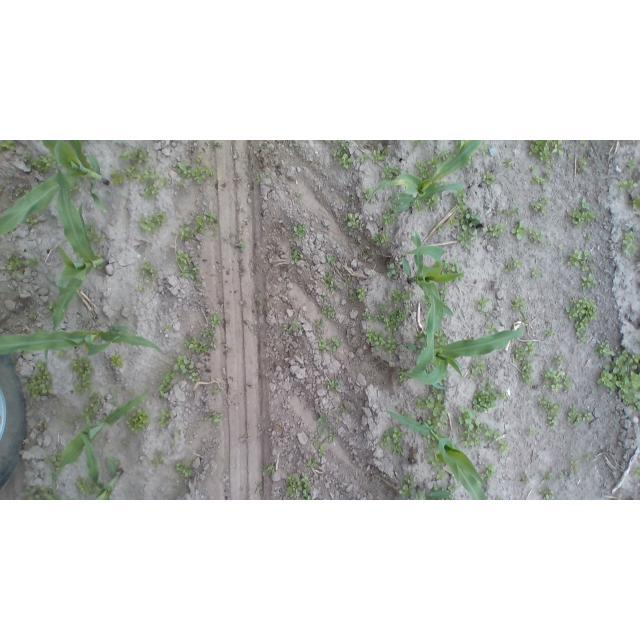Maize: (45, 143, 112, 359), (399, 289, 527, 390), (1, 140, 110, 236), (383, 408, 490, 500), (58, 389, 148, 491), (363, 140, 484, 212), (0, 328, 164, 369), (403, 232, 465, 319), (83, 433, 124, 500), (415, 486, 452, 500)
Weeds: (593, 351, 639, 412), (456, 406, 505, 448), (450, 190, 483, 250), (159, 354, 201, 400), (566, 296, 598, 345), (126, 164, 170, 199), (185, 310, 221, 352), (25, 360, 56, 401), (178, 210, 217, 242), (470, 380, 506, 413), (361, 308, 410, 332), (514, 341, 538, 387), (528, 141, 564, 168), (71, 356, 94, 397), (414, 388, 447, 416), (176, 160, 212, 185), (541, 367, 572, 396), (567, 196, 595, 227), (537, 395, 562, 428), (364, 329, 398, 353), (22, 150, 56, 174), (381, 425, 406, 457), (136, 211, 169, 235), (287, 472, 314, 500), (566, 404, 594, 429), (177, 250, 200, 279), (128, 407, 151, 436), (43, 445, 62, 480), (7, 255, 40, 275), (81, 392, 100, 424), (20, 486, 60, 500), (568, 250, 593, 271), (393, 286, 420, 303), (528, 195, 550, 215), (122, 146, 147, 163), (469, 360, 490, 380), (399, 477, 417, 500), (344, 211, 365, 230), (426, 414, 448, 432), (315, 411, 330, 437), (77, 475, 96, 495), (623, 232, 638, 257), (84, 224, 102, 243), (348, 287, 367, 305), (486, 223, 506, 240), (380, 165, 402, 180), (321, 274, 338, 293), (481, 170, 498, 189), (504, 256, 523, 273), (174, 461, 194, 477), (151, 450, 167, 470), (157, 409, 173, 428), (416, 161, 432, 180), (582, 273, 599, 290), (597, 341, 613, 359), (370, 148, 388, 164), (476, 295, 492, 313), (141, 261, 156, 279), (311, 438, 325, 457), (321, 305, 338, 320), (339, 154, 354, 171), (203, 412, 222, 425), (331, 335, 344, 354), (501, 207, 520, 220), (111, 353, 126, 369), (292, 222, 308, 237), (373, 231, 389, 246), (617, 180, 637, 192), (537, 486, 555, 499), (112, 167, 125, 185), (512, 221, 525, 239), (444, 260, 461, 273), (290, 250, 304, 265), (285, 321, 300, 335), (426, 197, 440, 212), (528, 228, 542, 243), (0, 139, 16, 152), (385, 262, 398, 278), (482, 462, 495, 478), (372, 300, 390, 311), (326, 378, 342, 390), (14, 183, 30, 195), (629, 193, 640, 210), (314, 319, 328, 332), (509, 297, 523, 310), (551, 355, 567, 366), (576, 157, 586, 174), (262, 464, 275, 477), (383, 213, 397, 225), (441, 150, 456, 160), (336, 406, 345, 422), (319, 339, 330, 352), (436, 330, 447, 343), (361, 188, 372, 201), (531, 176, 545, 186), (632, 466, 640, 483), (327, 427, 336, 442), (485, 321, 496, 333), (531, 266, 541, 279), (435, 470, 446, 481), (447, 484, 459, 494), (55, 349, 68, 358), (235, 240, 245, 251), (521, 472, 532, 482), (439, 284, 449, 295), (414, 201, 424, 212), (416, 331, 425, 343), (498, 441, 506, 454), (294, 189, 304, 199), (325, 253, 335, 263), (569, 461, 579, 471), (429, 157, 439, 167), (308, 457, 318, 467), (504, 157, 514, 167), (544, 473, 555, 482), (331, 150, 342, 159), (529, 425, 538, 436), (480, 145, 489, 156), (626, 159, 637, 168), (411, 141, 425, 148), (26, 217, 39, 224), (255, 171, 264, 181), (401, 411, 411, 420), (426, 455, 435, 465), (360, 153, 369, 163), (436, 224, 445, 234), (425, 298, 432, 310), (165, 324, 173, 333), (174, 428, 182, 437), (47, 302, 56, 310), (544, 330, 553, 338), (580, 140, 589, 148), (343, 275, 350, 285), (585, 453, 592, 463), (326, 140, 342, 144), (560, 472, 568, 480), (544, 171, 553, 178), (397, 373, 403, 383), (0, 184, 6, 194), (467, 159, 472, 171), (212, 388, 219, 396), (584, 232, 591, 240), (567, 153, 574, 160), (258, 146, 266, 152), (281, 287, 288, 293), (341, 143, 348, 149), (557, 244, 564, 250), (531, 166, 538, 171), (321, 294, 327, 299), (170, 442, 175, 448), (139, 286, 144, 291)
